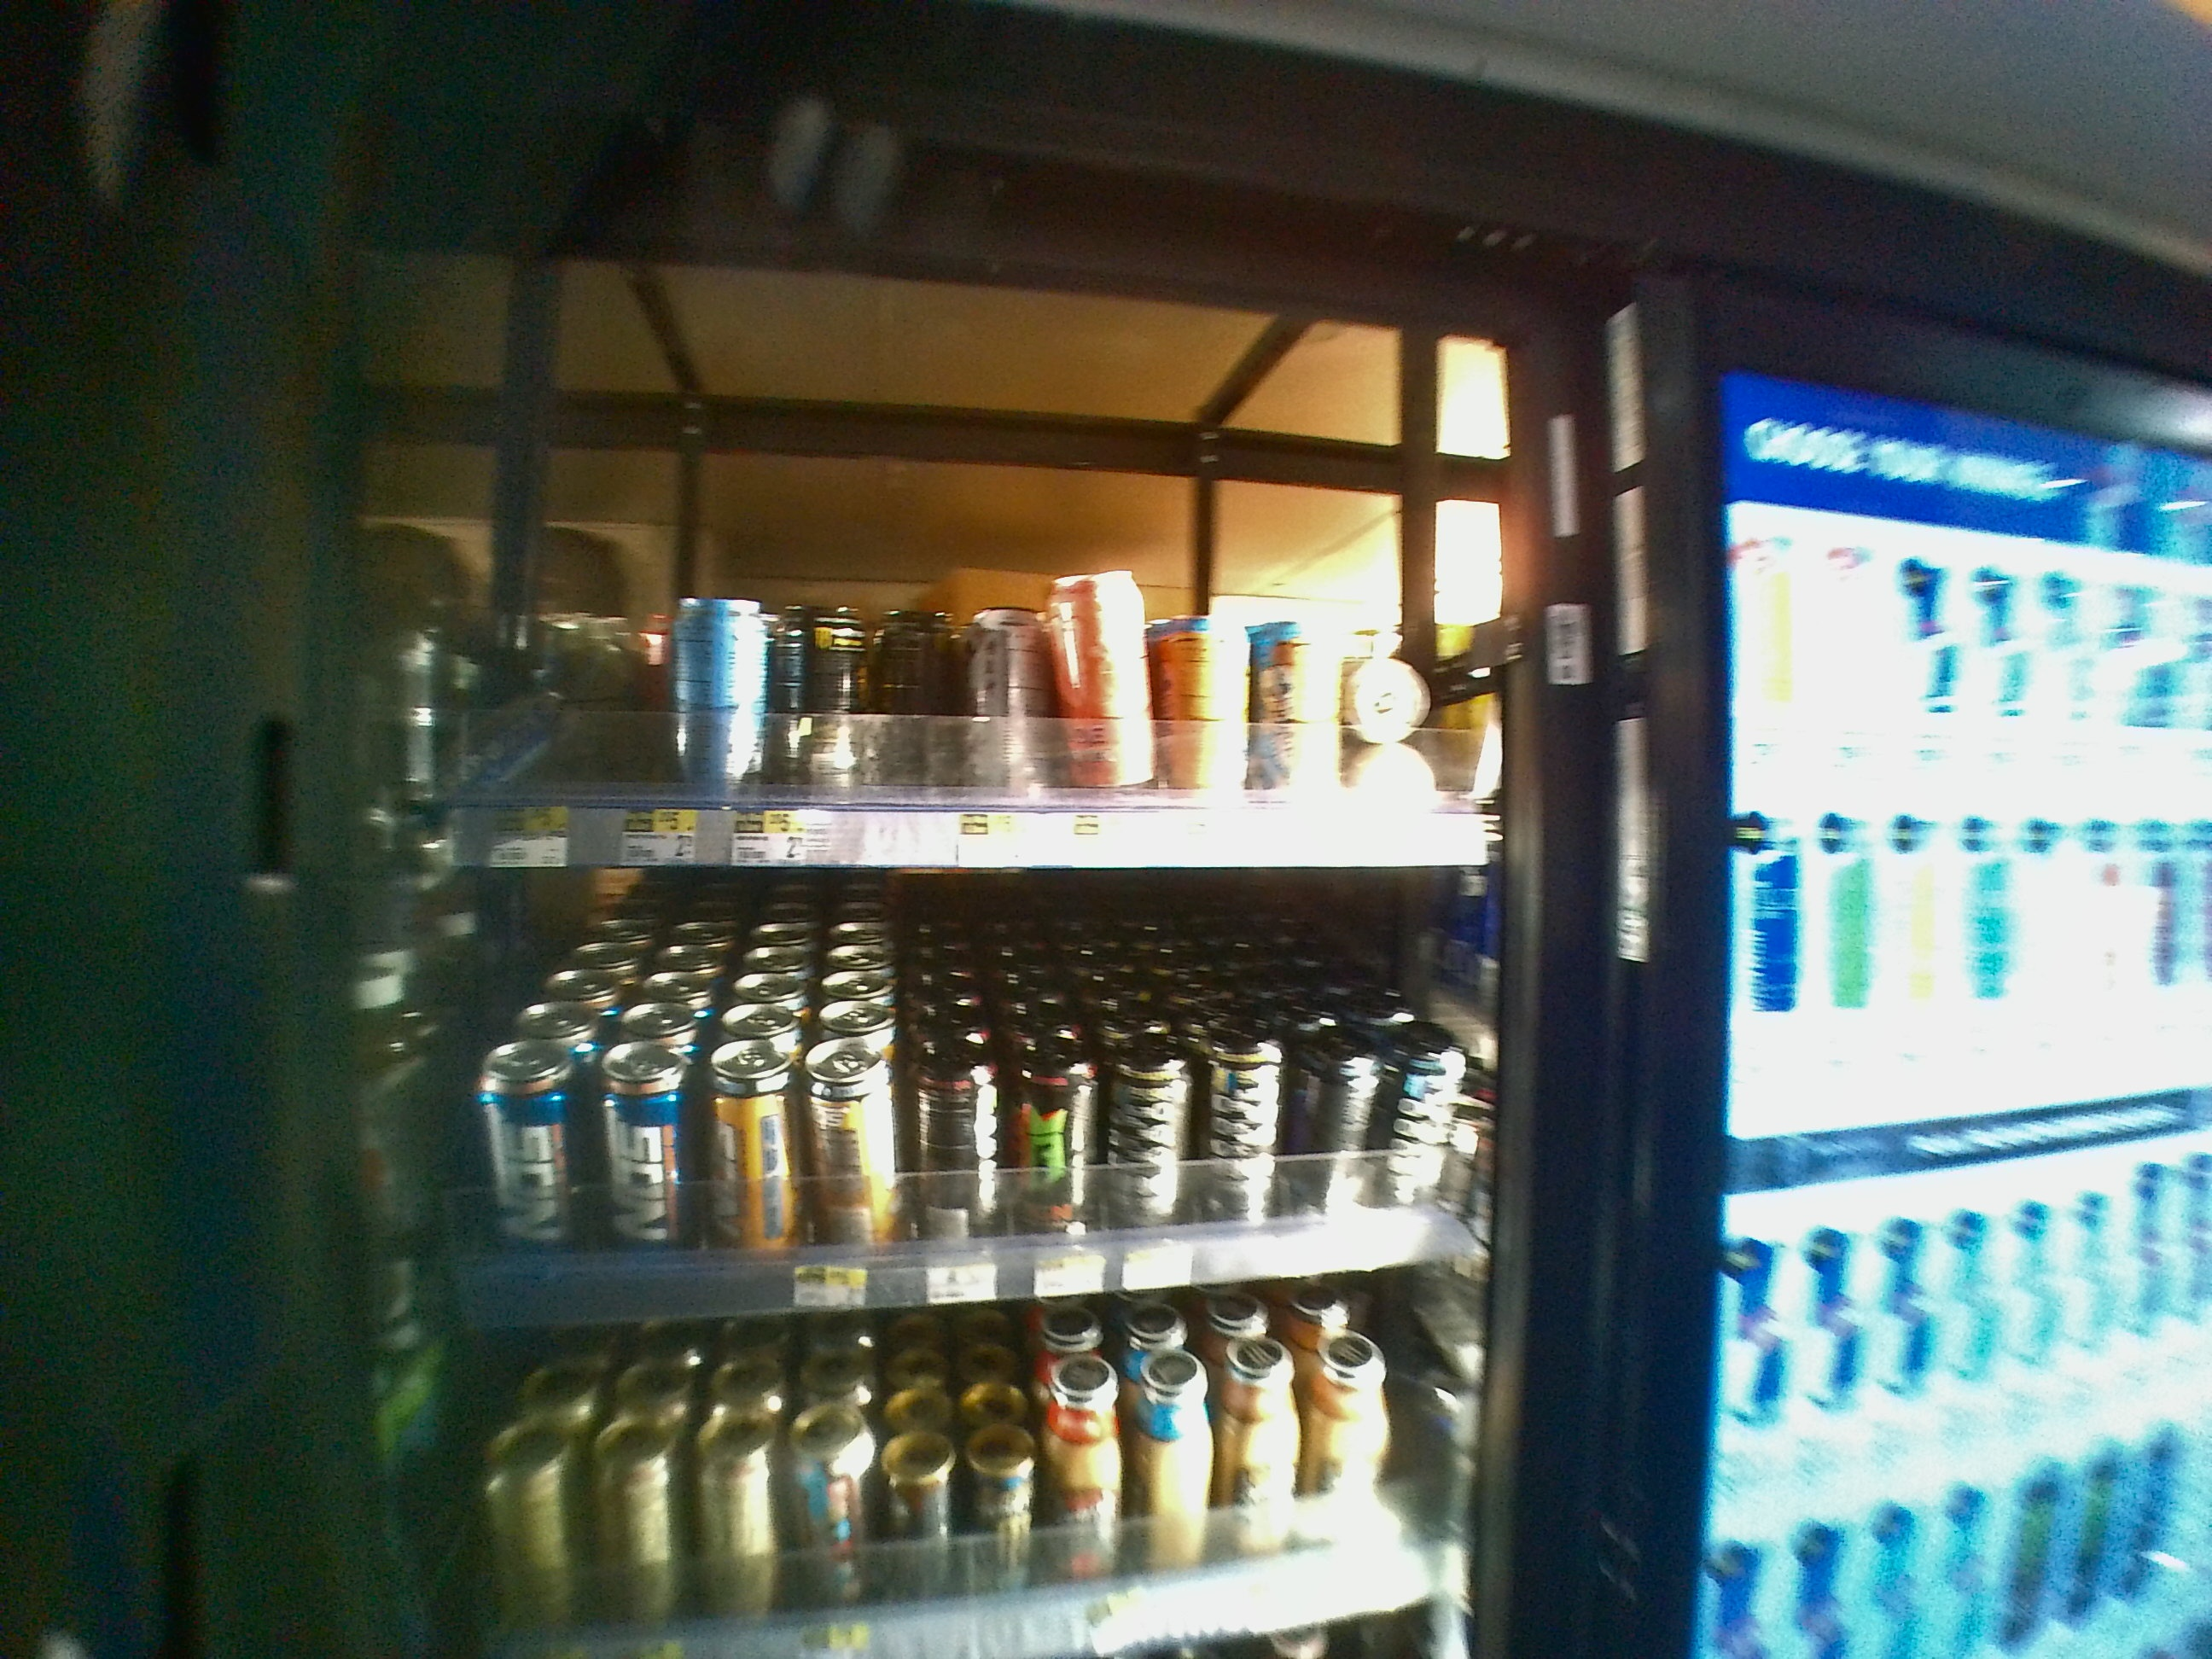shelf: (343, 254, 1505, 866), (340, 871, 1507, 1295)
